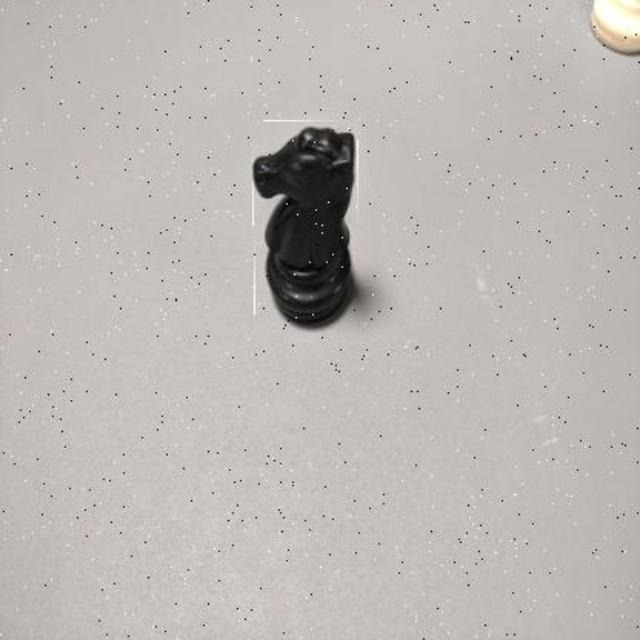black-knight: (253, 120, 359, 333)
